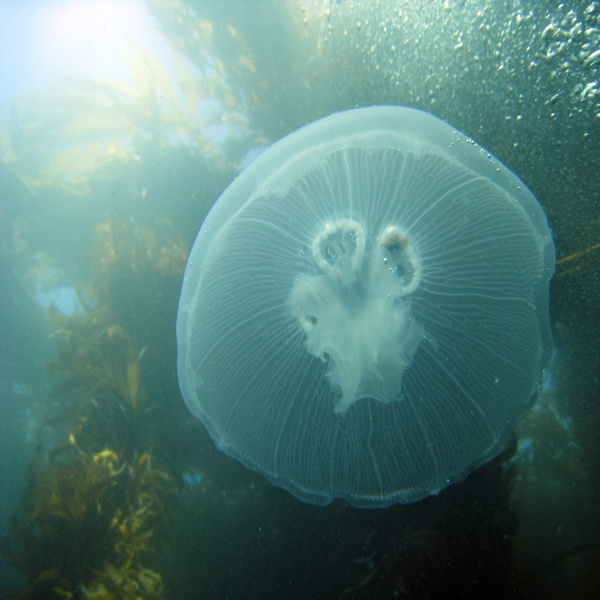Jellyfish: (175, 105, 555, 509)
